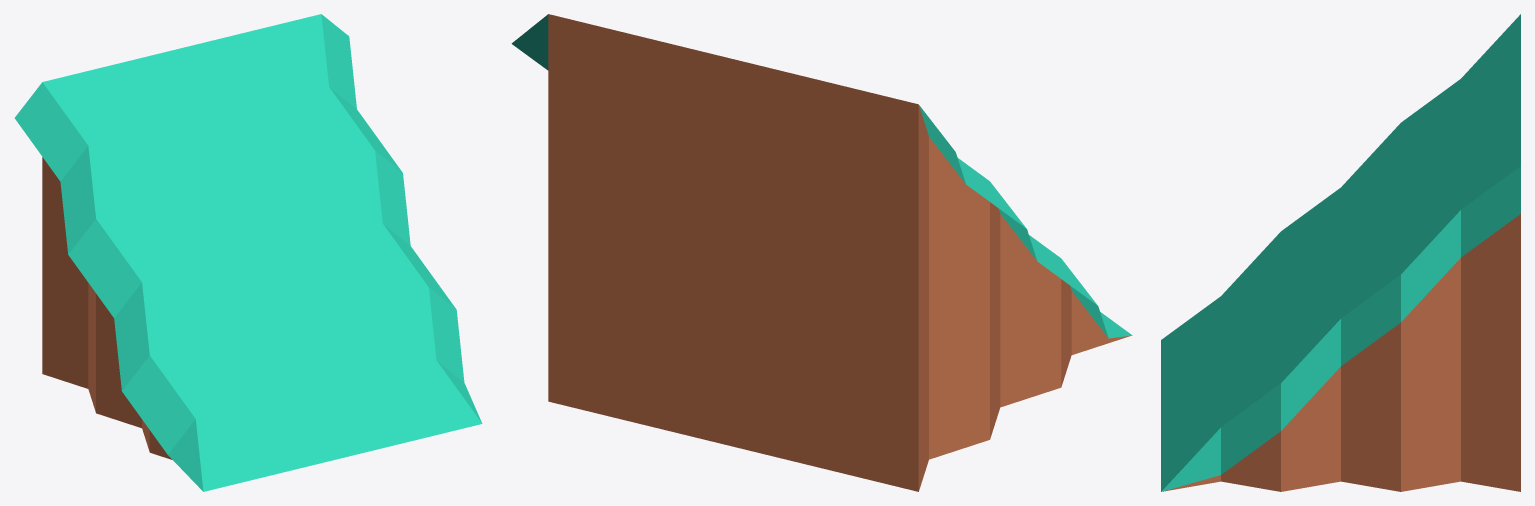
File: cliff_blockSlope_rock.dae
3 renders of one model, left to right at view 1: azimuth 30°, elevation 25°; view 2: azimuth 150°, elevation 25°; view 3: azimuth 270°, elevation 25°, orthographic. The views are drawn at different scales.
Parts seen in each view (by area): view 1: cliff_blockSlope_rock; view 2: cliff_blockSlope_rock; view 3: cliff_blockSlope_rock.
Part boxes in pixels (x1=…): cliff_blockSlope_rock: x1=14, y1=14, x2=482, y2=491; cliff_blockSlope_rock: x1=511, y1=14, x2=1132, y2=491; cliff_blockSlope_rock: x1=1161, y1=14, x2=1520, y2=491.
Size of the model in its own units: 1.2 by 1 by 1.
